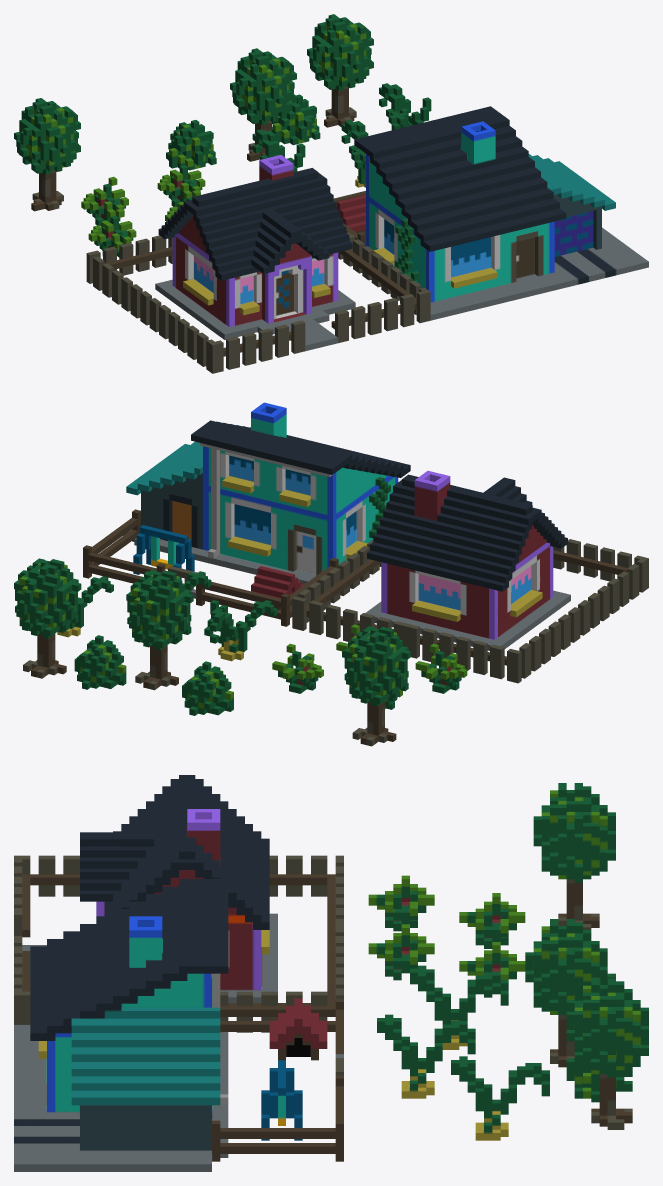
Rendered from building_small_3_overtile.glb.
3 renders of one model, top to bottom at view 1: azimuth 30°, elevation 25°; view 2: azimuth 150°, elevation 25°; view 3: azimuth 270°, elevation 25°, orthographic. The views are drawn at different scales.
Parts seen in each view (by area): view 1: building_small_3_overtile; view 2: building_small_3_overtile; view 3: building_small_3_overtile.
Boxes of the visible parts, x1,y1,x2,y2 form: building_small_3_overtile: [14, 14, 648, 373]; building_small_3_overtile: [14, 402, 648, 746]; building_small_3_overtile: [14, 775, 648, 1171].
Size of the model in its own units: 8 by 2.3 by 7.7.
1 material, 1 textured.
